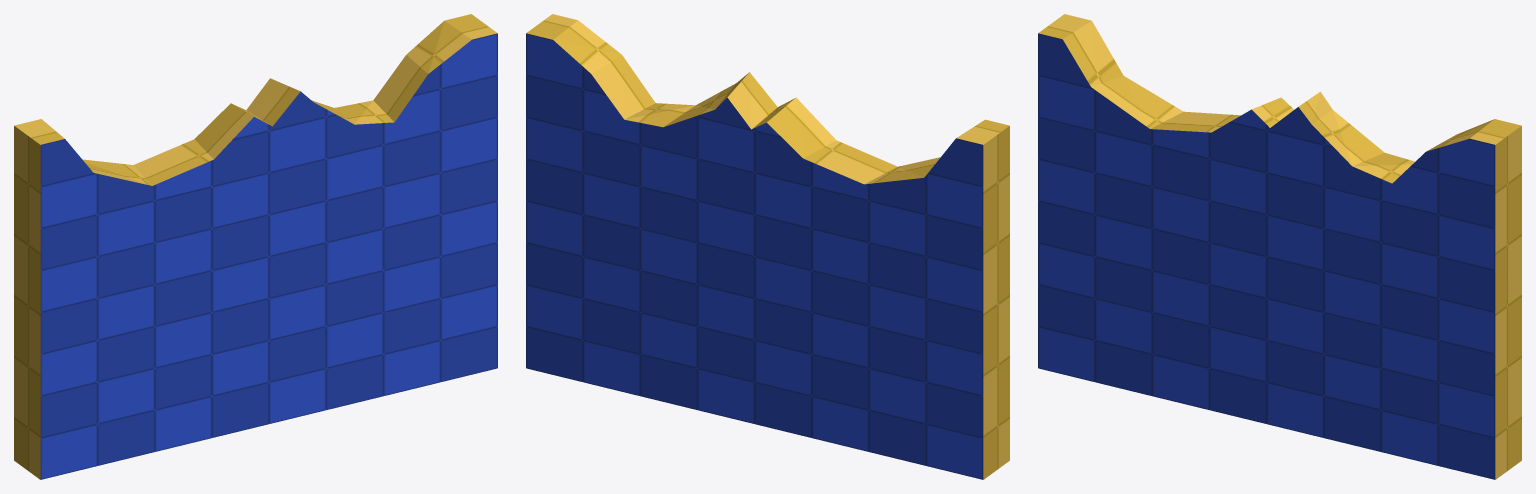
The model's file is WallBr5m.fbx.
The picture shows the model from 3 angles, left to right: view 1: azimuth 30°, elevation 25°; view 2: azimuth 150°, elevation 25°; view 3: azimuth 330°, elevation 25°; orthographic projection.
Visible parts, largest first — view 1: WallBr5m; view 2: WallBr5m; view 3: WallBr5m.
Boxes of the visible parts, <box> form: WallBr5m: <box>14,14,497,479</box>; WallBr5m: <box>526,14,1009,479</box>; WallBr5m: <box>1038,14,1521,479</box>.
Bounding box in the file's own units: 500 × 50 × 350.
